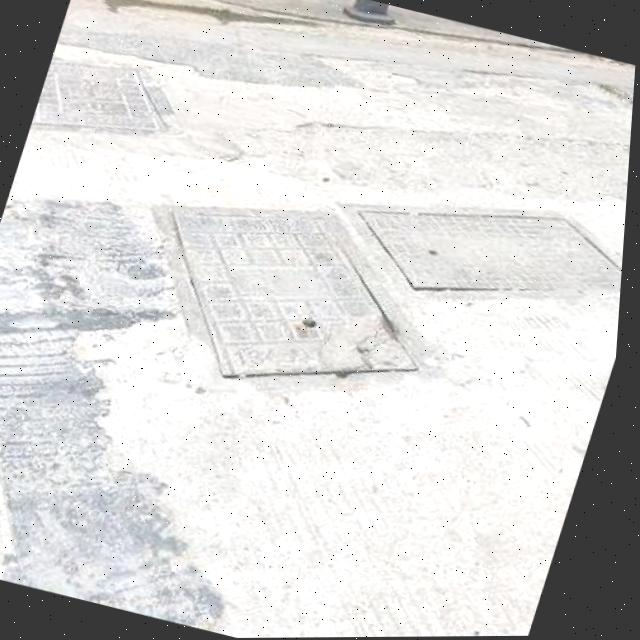manhole: (96, 164, 471, 422)
